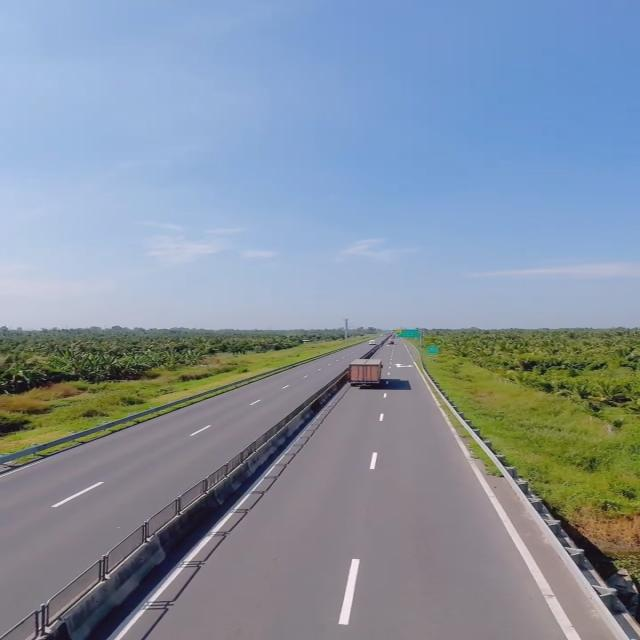truck: (347, 356, 382, 386)
